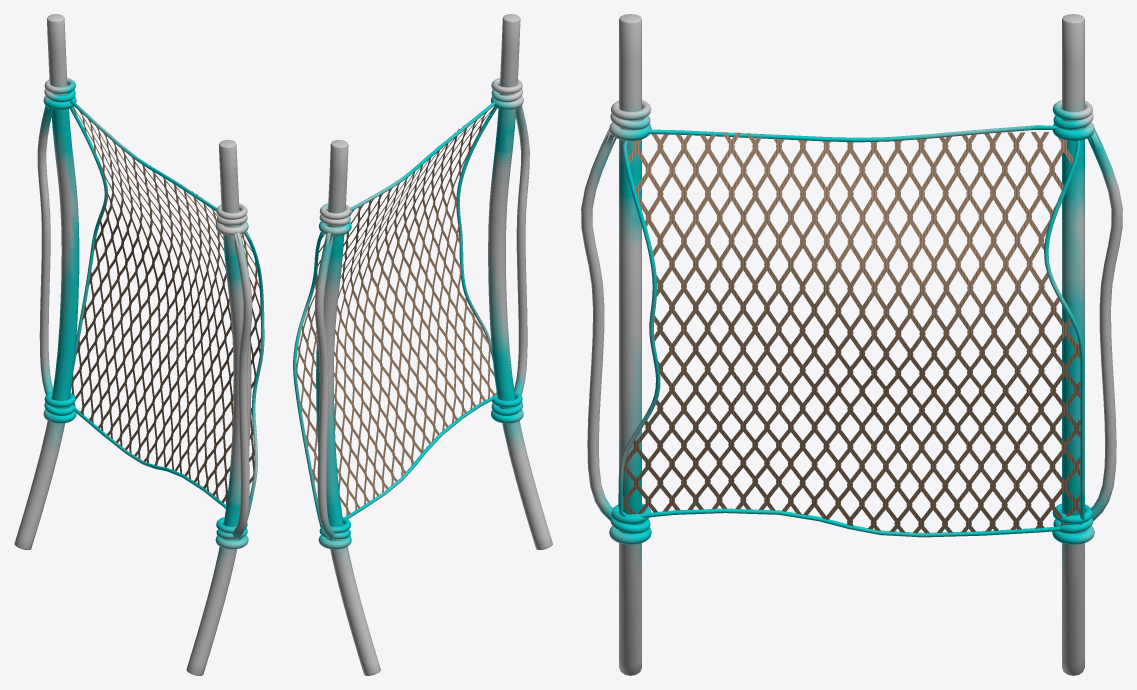
Rendered from SM_Fishnet.fbx.
The picture shows the model from 3 angles, left to right: view 1: azimuth 30°, elevation 25°; view 2: azimuth 150°, elevation 25°; view 3: azimuth 270°, elevation 25°; orthographic projection. The views are drawn at different scales.
Visible parts, largest first — view 1: SM_Fishnet_LOD0; view 2: SM_Fishnet_LOD0; view 3: SM_Fishnet_LOD0.
Part boxes in pixels (x1,y1,x2,y2): SM_Fishnet_LOD0: (14, 14, 264, 675); SM_Fishnet_LOD0: (293, 14, 552, 675); SM_Fishnet_LOD0: (581, 14, 1122, 675).
Size of the model in its own units: 93.64 by 378 by 520.
